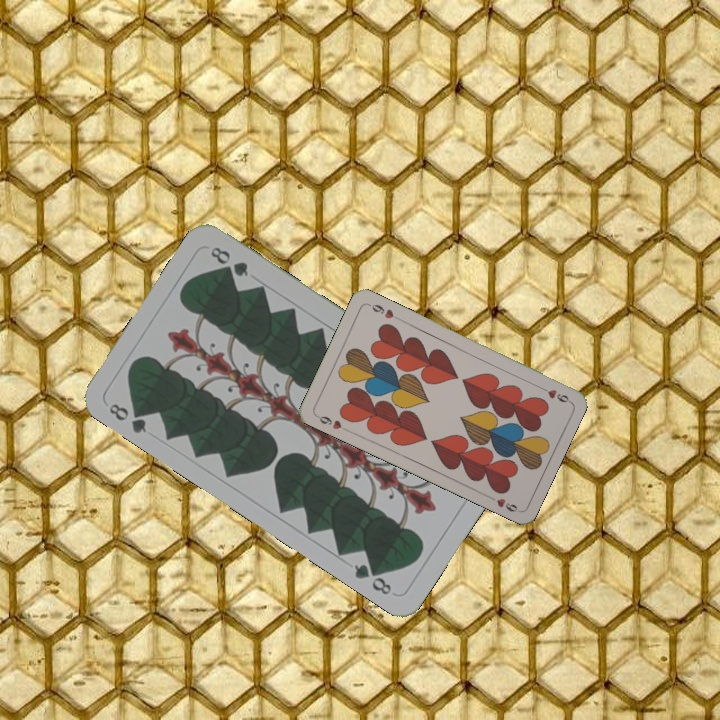G8: (105, 399, 151, 436)
H9: (312, 411, 350, 434), (534, 382, 572, 405)
